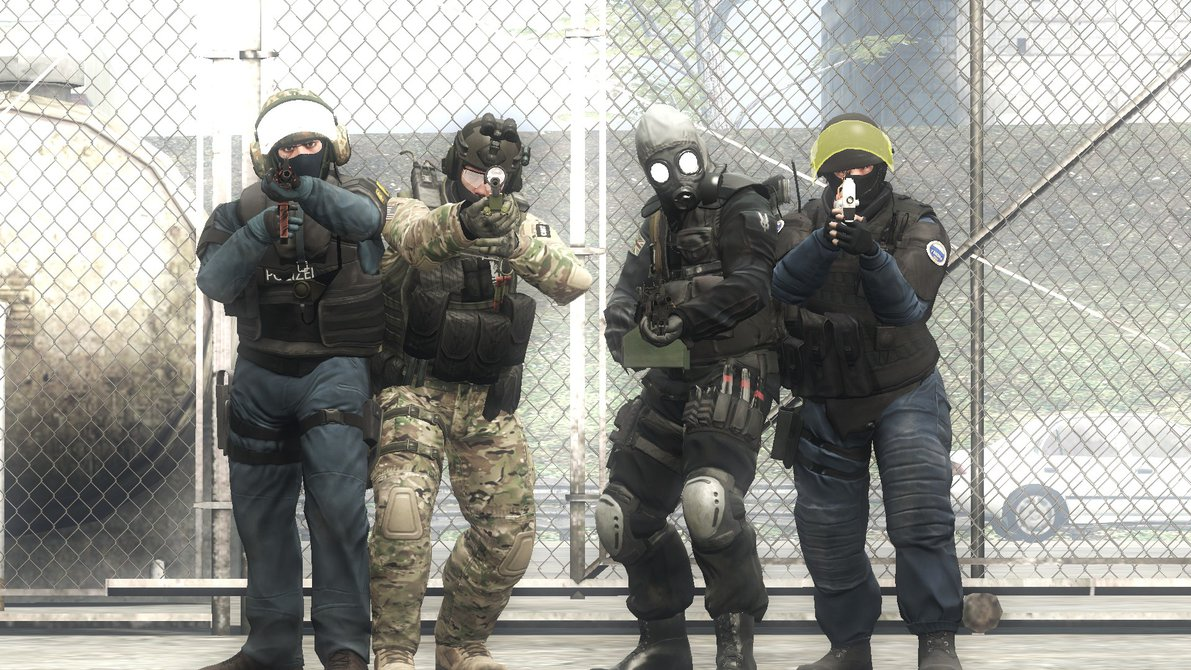c: (360, 110, 560, 670), (199, 83, 387, 670), (589, 104, 783, 670), (785, 106, 954, 670)
ch: (256, 85, 344, 196), (443, 114, 530, 217), (636, 103, 711, 220), (811, 111, 891, 211)
